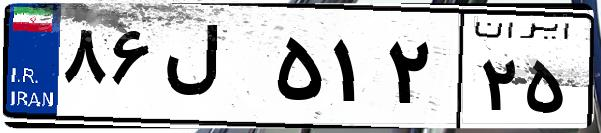1: (330, 28, 385, 110)
2: (385, 28, 445, 110), (475, 38, 525, 113)
5: (270, 28, 330, 110), (525, 38, 570, 115)
6: (110, 28, 158, 98)
8: (57, 26, 110, 100)
ل: (158, 20, 270, 120)
